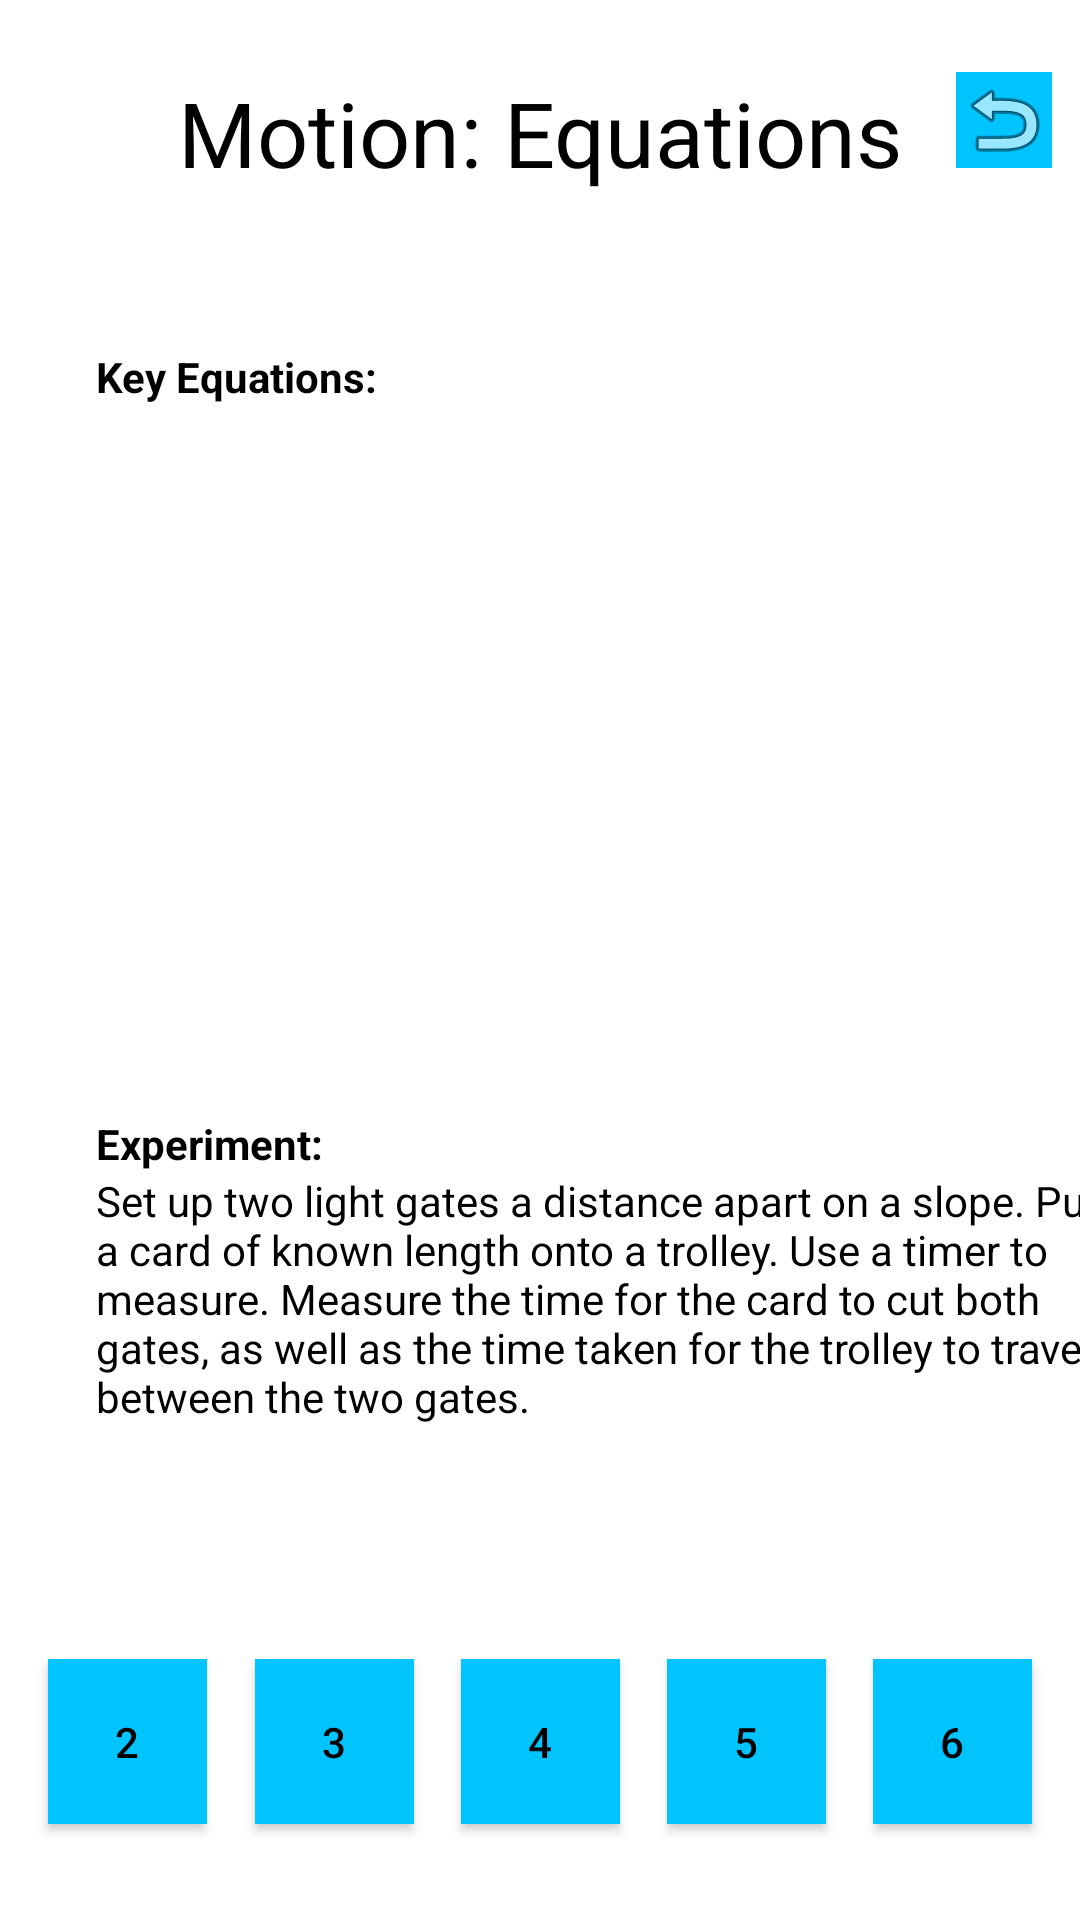

Icon click points for this 1080 × 1920 phone screenshot, format (x=x, y=y):
revert: (x=1004, y=120)
